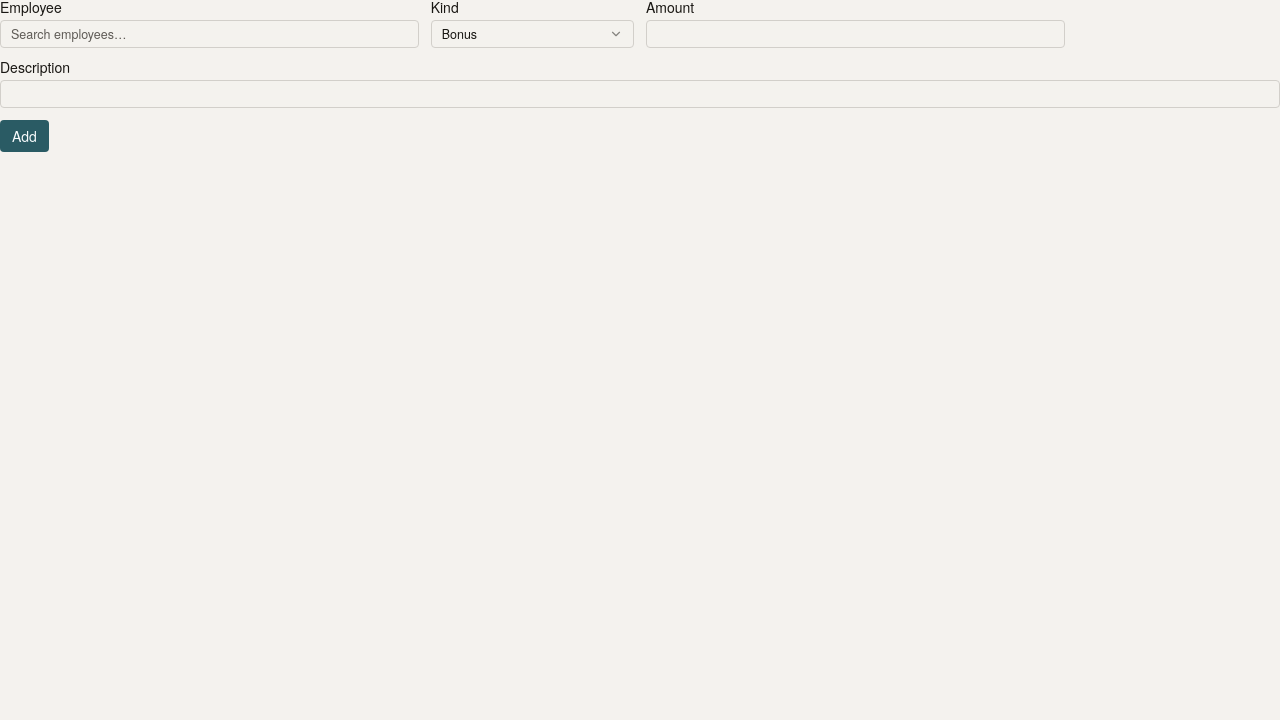
Test case: AdjustmentForm › refuses an hour-based item without hours
Click the dropdown named "Kind".
click(532, 34)  # box [431, 20, 634, 48]
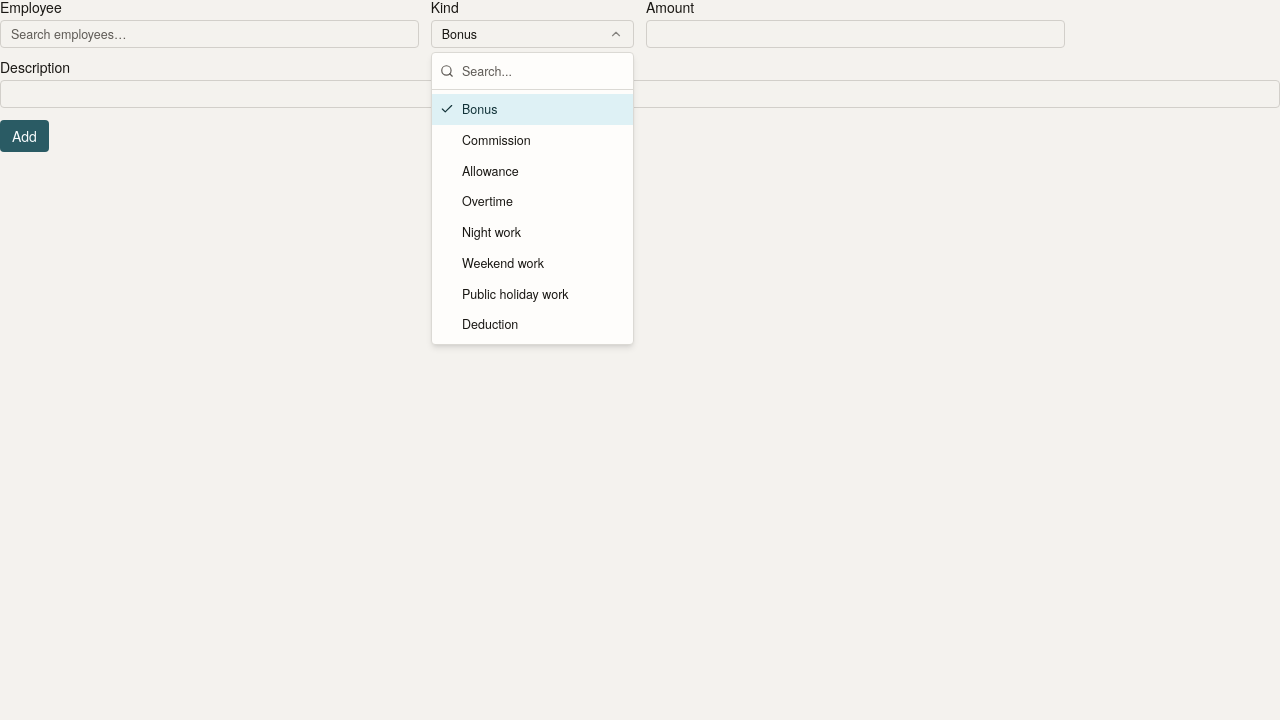
Press the mouse on the option "Night work" at (533, 232), box [432, 217, 633, 248]
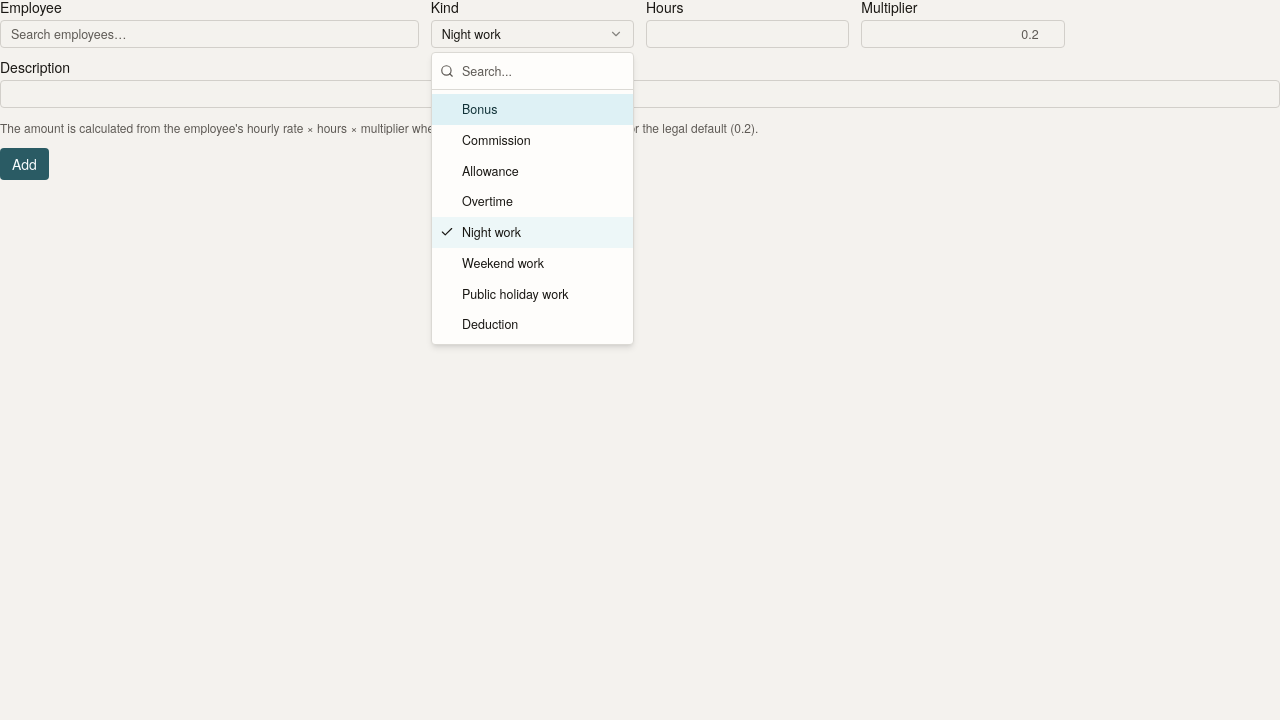
Focus the dropdown labelled "Employee" at (209, 34), box [0, 20, 419, 48]
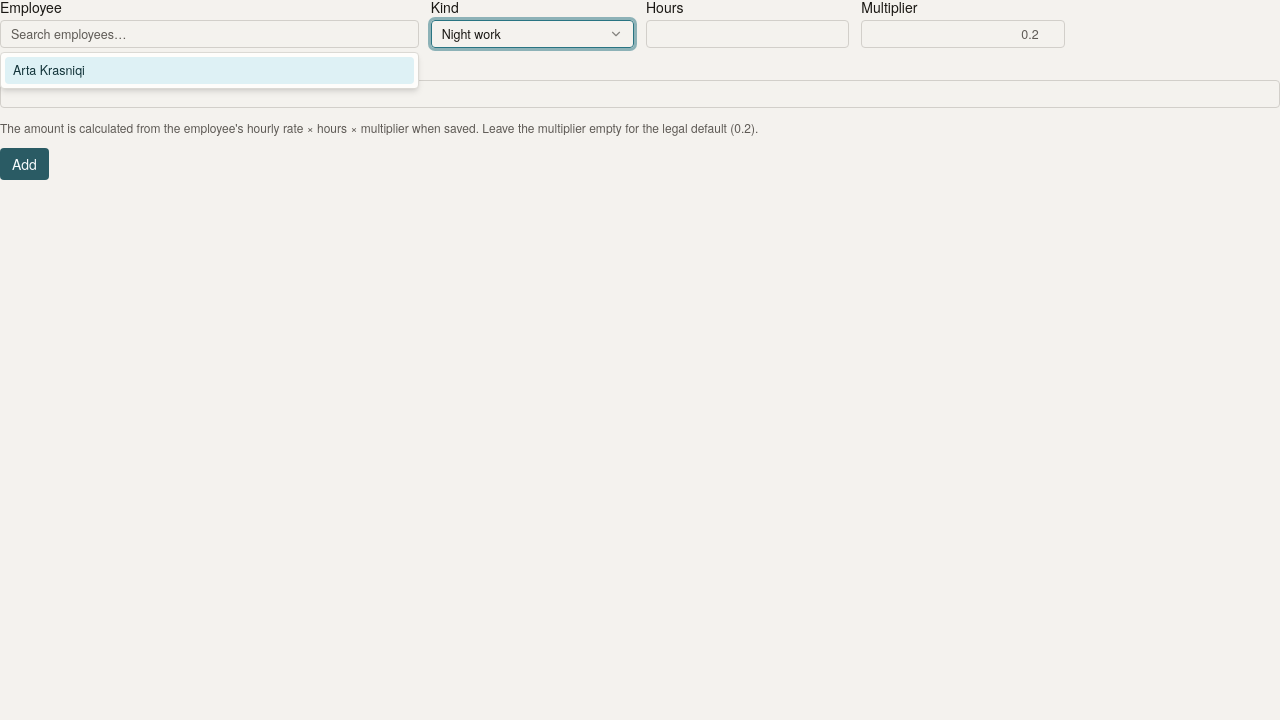
Click the option "Arta Krasniqi".
click(49, 70)  # box [5, 57, 414, 84]
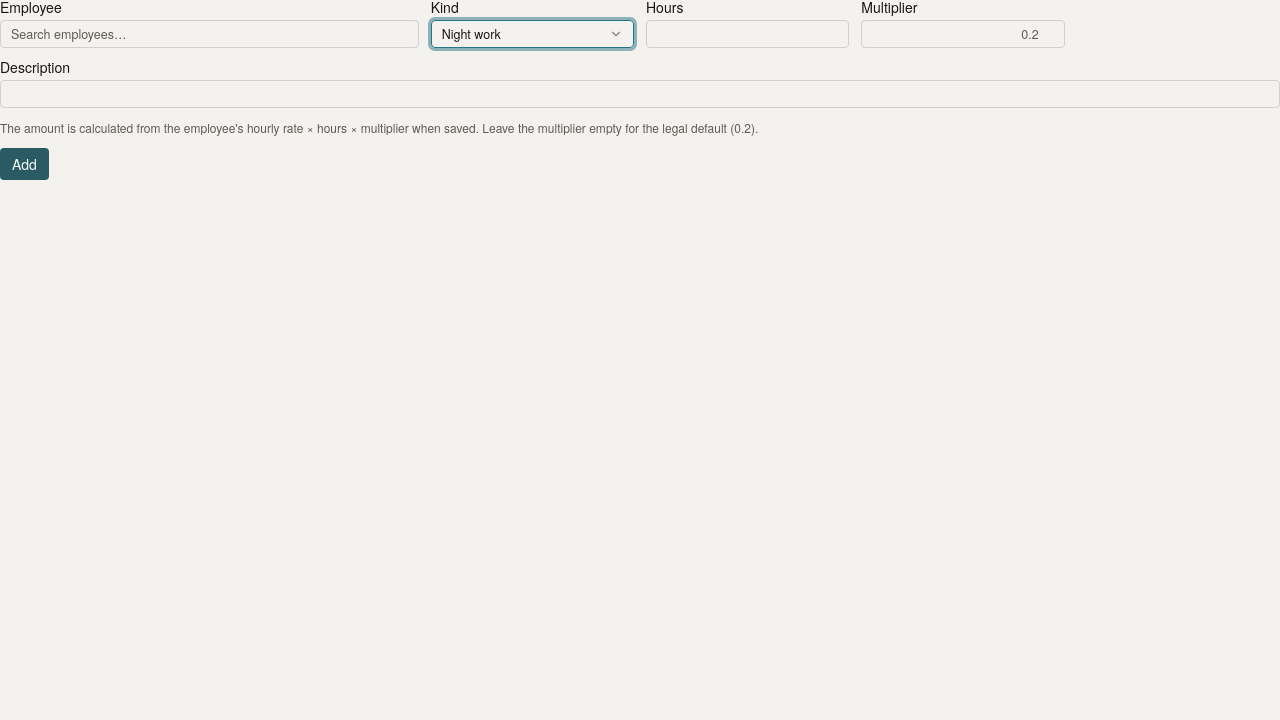
Click the button "Add".
click(24, 164)  # box [0, 148, 49, 180]
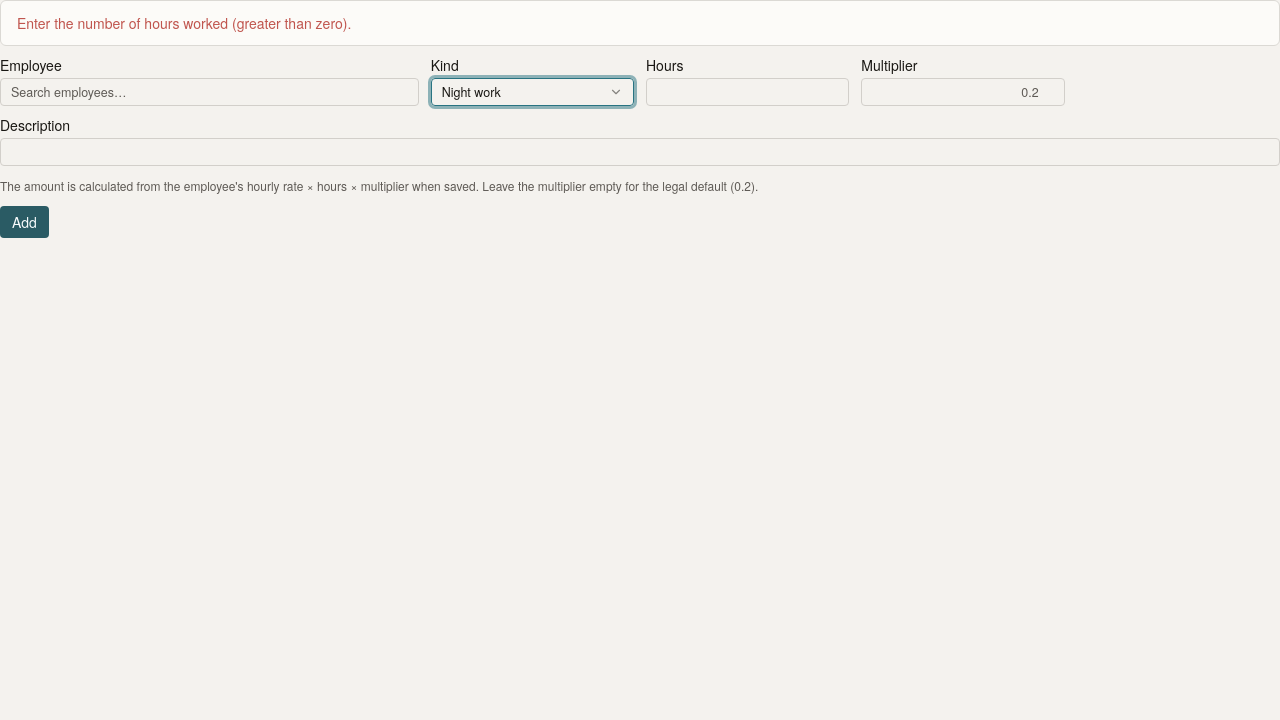
Check: the text "Enter the number of hours worked (greater than zero)." is shown, box [17, 13, 351, 33]
